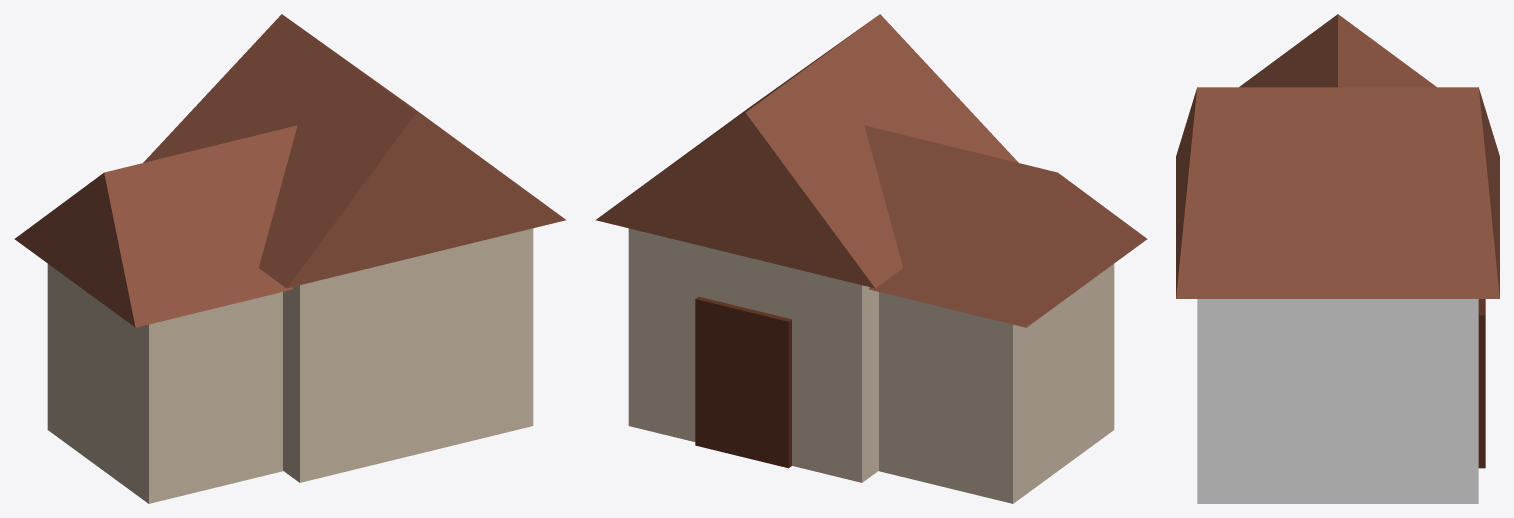
The model's file is house.fbx.
3 views of the same model, side by side, from view 1: azimuth 30°, elevation 25°; view 2: azimuth 150°, elevation 25°; view 3: azimuth 270°, elevation 25° (orthographic). The views are drawn at different scales.
Visible parts, largest first — view 1: cuboid; view 2: cuboid; view 3: cuboid.
Boxes of the visible parts, x1,y1,x2,y2 form: cuboid: [14, 14, 566, 503]; cuboid: [595, 14, 1147, 503]; cuboid: [1176, 14, 1499, 503].
Size of the model in its own units: 444 by 351 by 288.
1 material, 1 textured.
